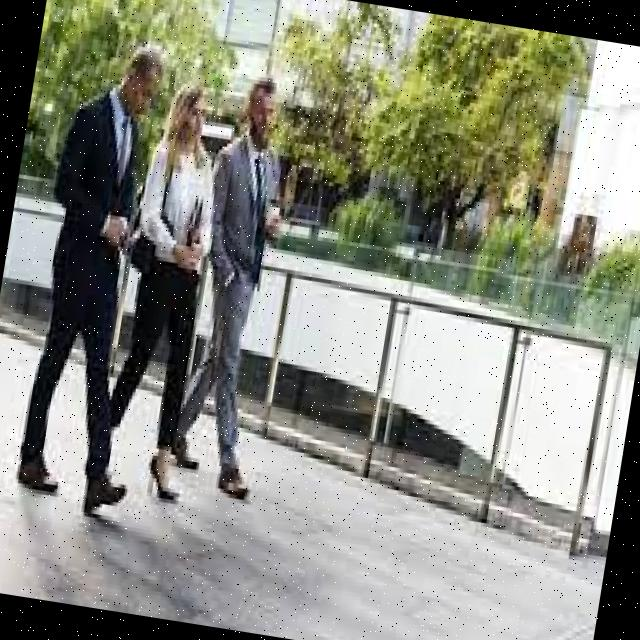Person: (5, 36, 196, 520), (154, 71, 316, 502), (94, 77, 243, 500)
